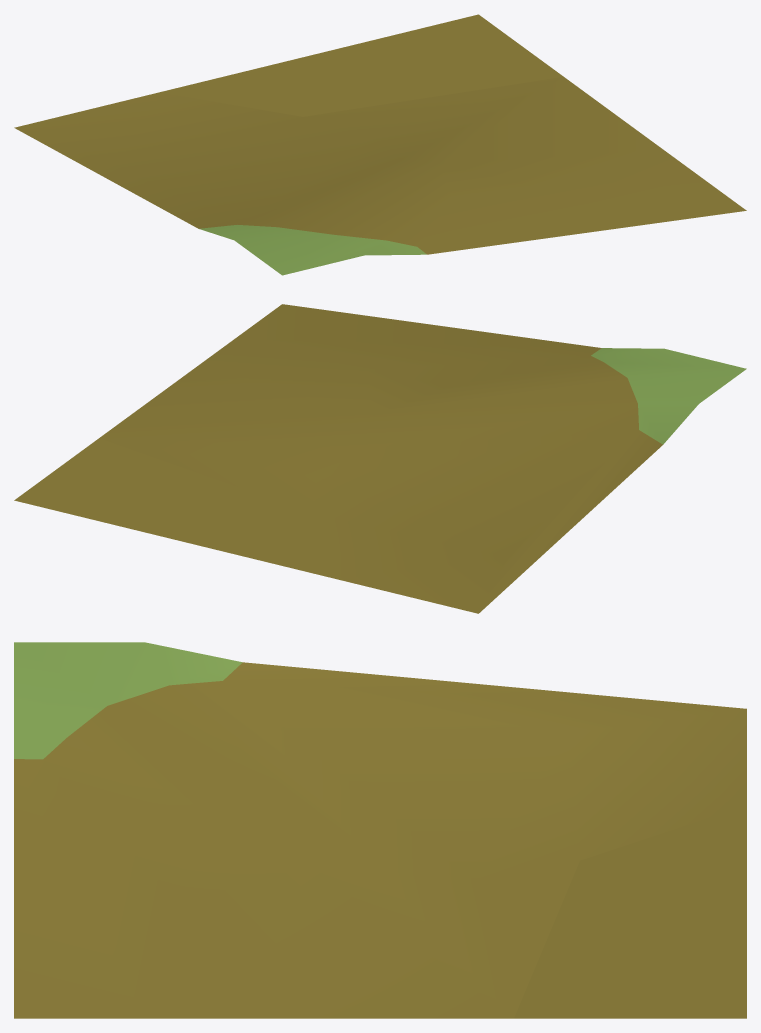
Rendered from Water_Corner_Inner.glb.
3 renders of one model, top to bottom at view 1: azimuth 30°, elevation 25°; view 2: azimuth 150°, elevation 25°; view 3: azimuth 270°, elevation 25°, orthographic. The views are drawn at different scales.
Visible parts, largest first — view 1: Water_Corner_Inner-col; view 2: Water_Corner_Inner-col; view 3: Water_Corner_Inner-col.
Boxes of the visible parts, box(x1,y1,x2,y2) form: Water_Corner_Inner-col: box(14, 14, 746, 275); Water_Corner_Inner-col: box(14, 304, 746, 613); Water_Corner_Inner-col: box(14, 642, 746, 1018).
Size of the model in its own units: 1 by 0.1004 by 1.
